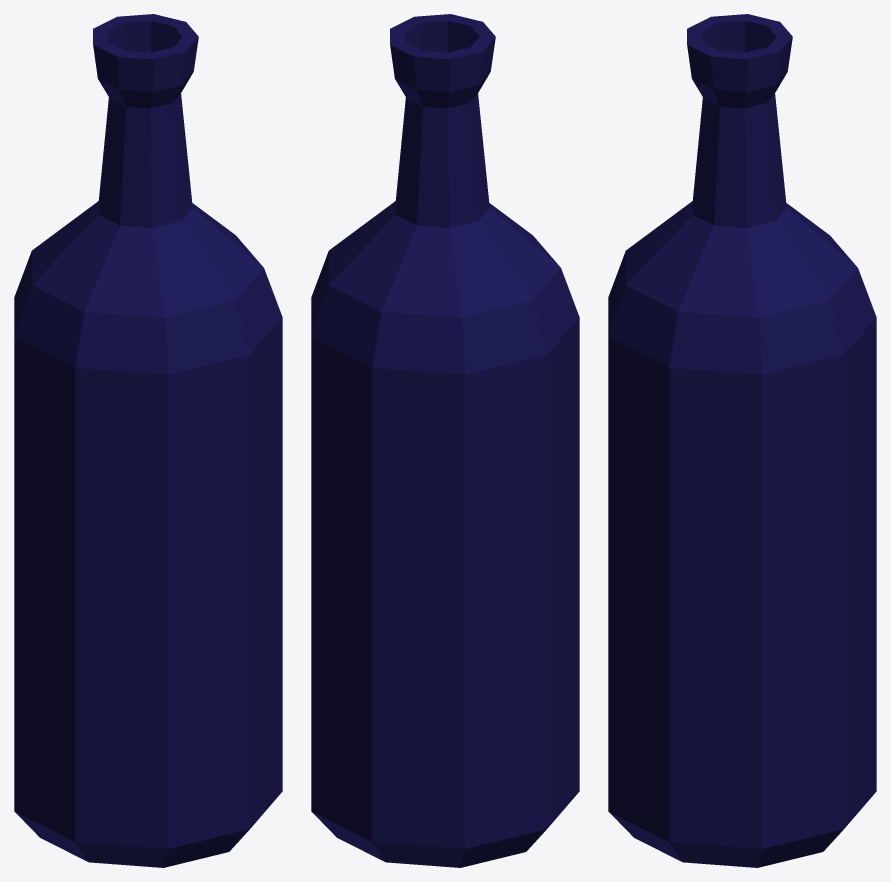
File: bottle_1.fbx
3 renders of one model, left to right at view 1: azimuth 30°, elevation 25°; view 2: azimuth 150°, elevation 25°; view 3: azimuth 270°, elevation 25°, orthographic.
Visible parts, largest first — view 1: bottle_3; view 2: bottle_3; view 3: bottle_3.
Part boxes in pixels (<box>): bottle_3: <box>14,14,282,867</box>; bottle_3: <box>311,14,579,867</box>; bottle_3: <box>608,14,876,867</box>.
Bounding box in the file's own units: 0.2813 × 0.8946 × 0.277.
